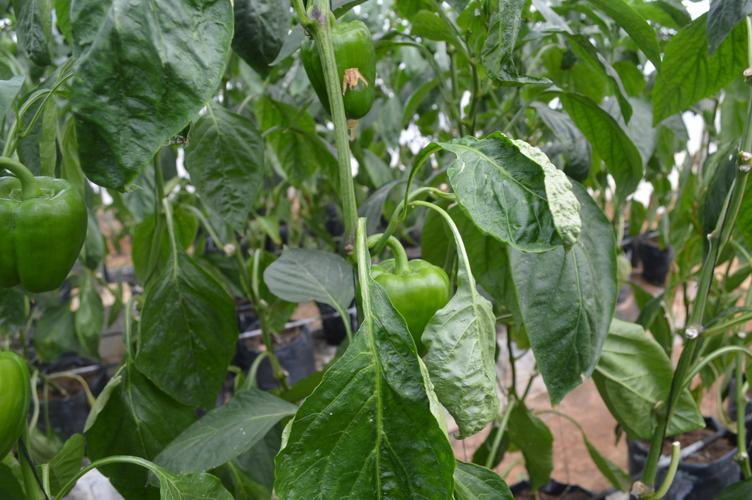BellPepper: (1, 176, 88, 293), (370, 259, 454, 351), (300, 22, 377, 120)
